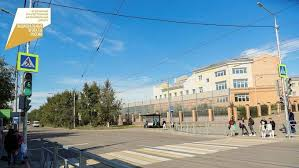tl: (24, 73, 33, 98)
